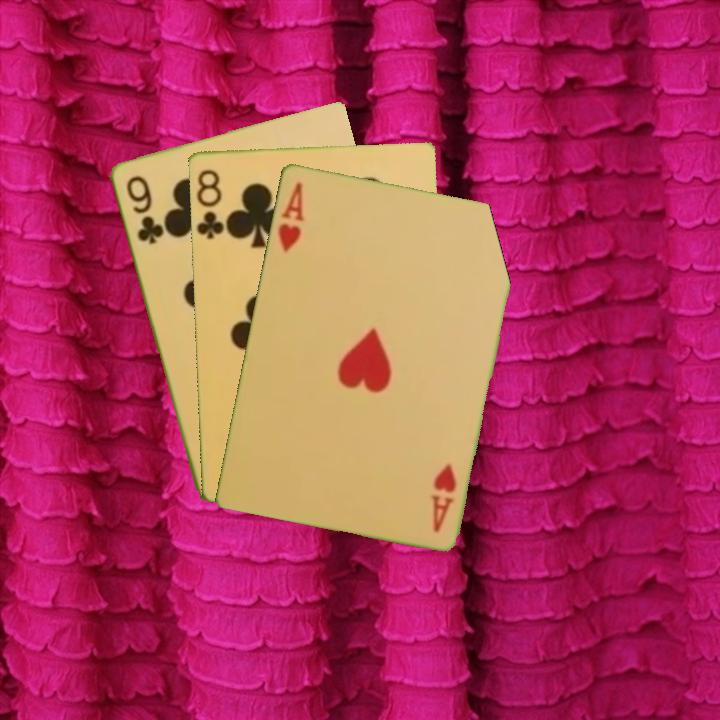8c: (192, 165, 229, 241)
9c: (122, 172, 164, 247)
Ah: (274, 178, 307, 255), (428, 459, 459, 535)
